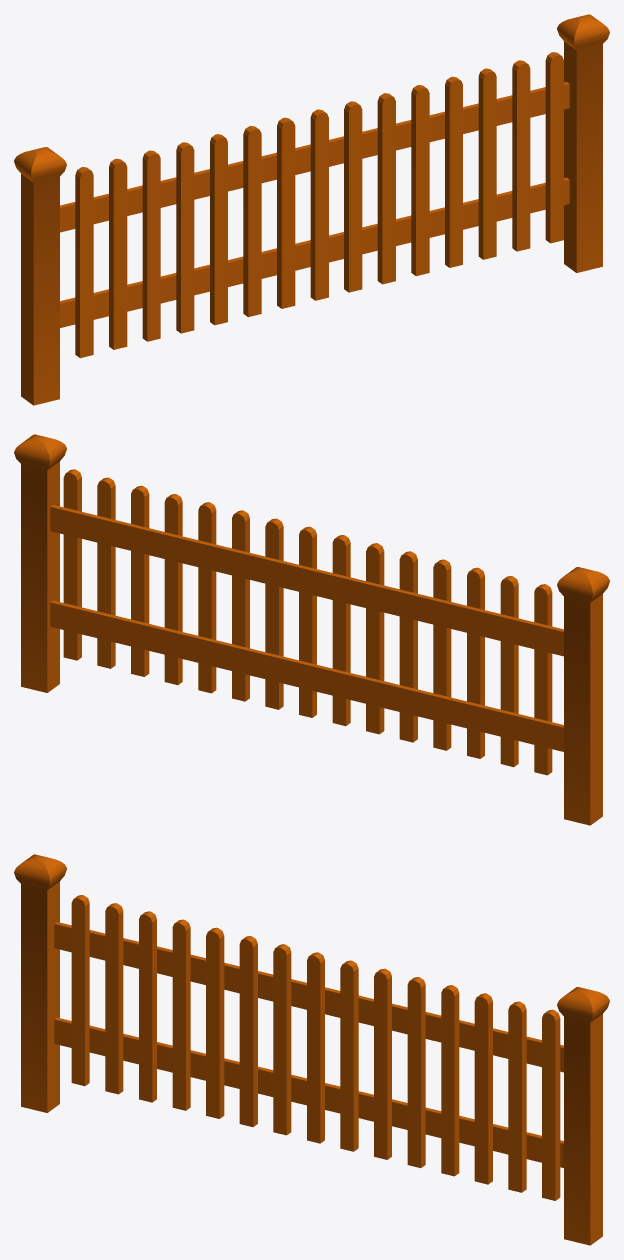
Rendered from Fence_3.fbx.
3 views of the same model, one above another, from view 1: azimuth 30°, elevation 25°; view 2: azimuth 150°, elevation 25°; view 3: azimuth 330°, elevation 25° (orthographic).
Parts seen in each view (by area): view 1: Fence_3; view 2: Fence_3; view 3: Fence_3.
Part boxes in pixels (x1,y1,x2,y2): Fence_3: [14, 14, 609, 405]; Fence_3: [14, 434, 609, 825]; Fence_3: [14, 854, 609, 1245].
Size of the model in its own units: 314 by 128 by 16.06.
Materials: 1 (1 with a texture image).
